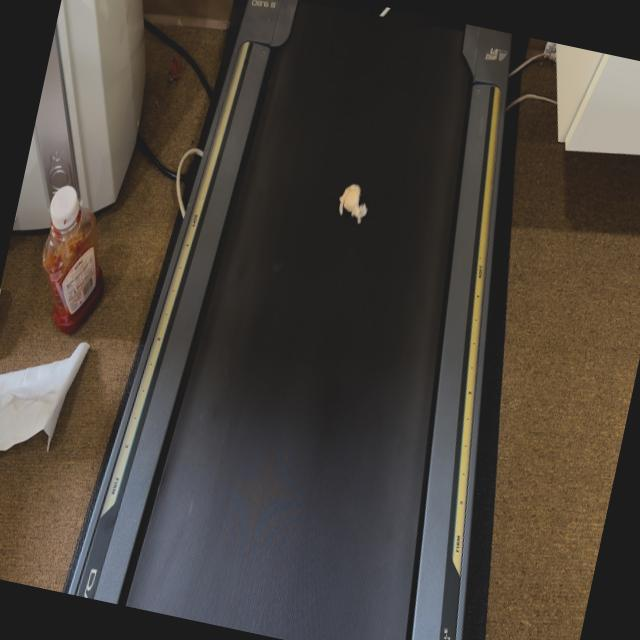Trash: (330, 176, 379, 228)
